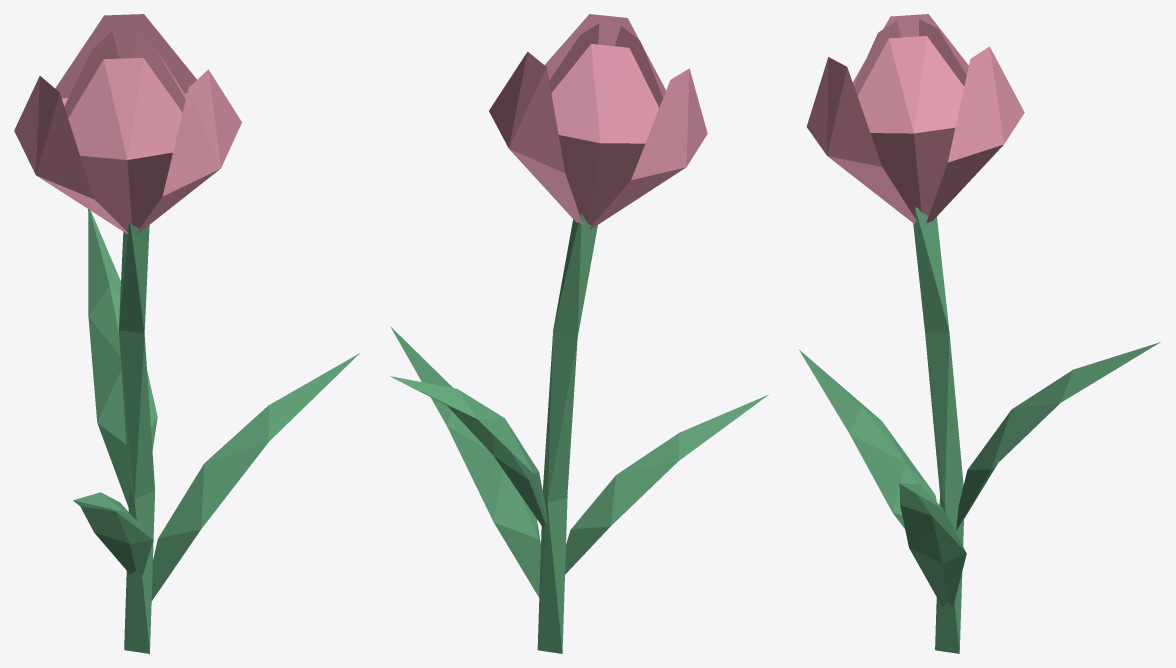
The model's file is Prop_Flower_Tulip.glb.
The picture shows the model from 3 angles, left to right: view 1: azimuth 30°, elevation 25°; view 2: azimuth 150°, elevation 25°; view 3: azimuth 270°, elevation 25°; orthographic projection. The views are drawn at different scales.
Parts seen in each view (by area): view 1: object8, object7, object10, object9, object13, object2, object6, object5, object12, object3, object4, object11; view 2: object4, object6, object7, object5, object13, object10, object2, object12, object3, object9, object8, object11; view 3: object11, object6, object9, object10, object5, object7, object2, object3, object12, object13, object8, object4.
Boxes of the visible parts, left/top/right/bottom form: object8: left=68, top=57, right=182, bottom=231; object7: left=151, top=353, right=359, bottom=600; object10: left=88, top=209, right=157, bottom=506; object9: left=136, top=69, right=241, bottom=233; object13: left=14, top=76, right=128, bottom=233; object2: left=119, top=330, right=154, bottom=498; object6: left=55, top=14, right=196, bottom=105; object5: left=73, top=492, right=153, bottom=575; object12: left=124, top=487, right=155, bottom=653; object3: left=119, top=222, right=149, bottom=333; object4: left=64, top=31, right=118, bottom=223; object11: left=132, top=30, right=186, bottom=111; object4: left=551, top=44, right=659, bottom=225; object6: left=489, top=51, right=583, bottom=226; object7: left=390, top=326, right=540, bottom=597; object5: left=565, top=394, right=768, bottom=574; object13: left=589, top=68, right=707, bottom=229; object10: left=390, top=376, right=548, bottom=528; object2: left=542, top=330, right=577, bottom=503; object12: left=537, top=495, right=567, bottom=653; object3: left=553, top=213, right=597, bottom=337; object9: left=545, top=14, right=665, bottom=97; object8: left=615, top=26, right=662, bottom=107; object11: left=549, top=23, right=599, bottom=92; object11: left=857, top=36, right=964, bottom=216; object6: left=926, top=46, right=1024, bottom=223; object9: left=806, top=57, right=916, bottom=224; object10: left=956, top=342, right=1160, bottom=530; object5: left=799, top=350, right=936, bottom=528; object7: left=899, top=483, right=966, bottom=607; object2: left=925, top=332, right=963, bottom=504; object3: left=913, top=207, right=949, bottom=332; object12: left=935, top=495, right=963, bottom=653; object13: left=853, top=14, right=968, bottom=85; object8: left=854, top=20, right=900, bottom=95; object4: left=919, top=19, right=966, bottom=86.
Bounding box in the file's own units: 0.3275 × 0.5799 × 0.3152.
